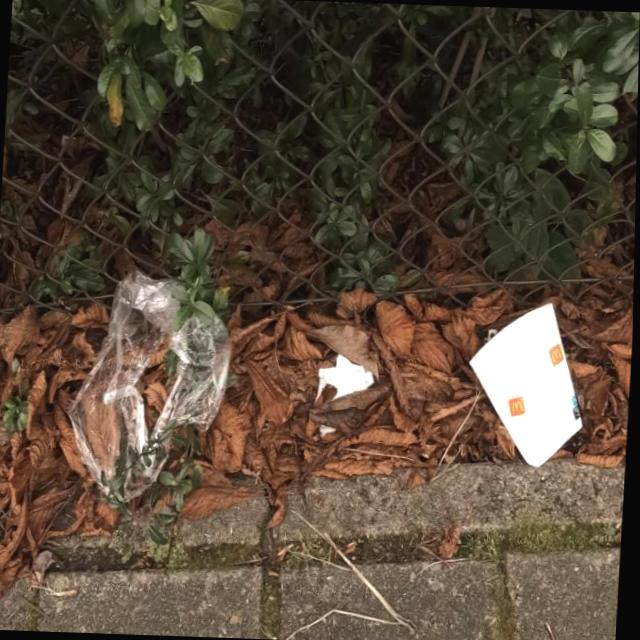Cup: (463, 296, 592, 470)
Paper: (312, 349, 377, 438)
